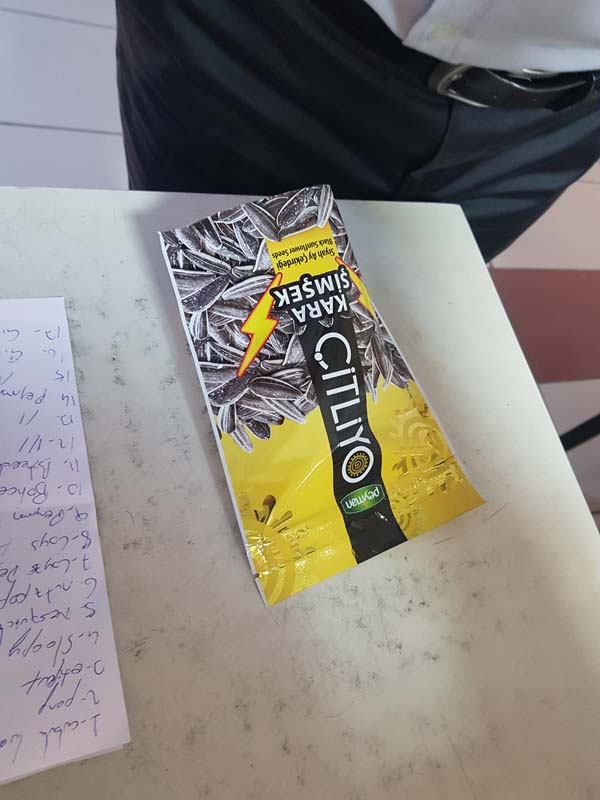citliyokarasimsek: (156, 182, 502, 609)
